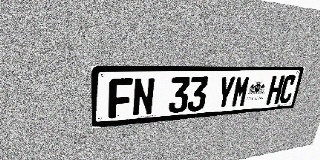3: (168, 77, 191, 114), (187, 76, 209, 112)
C: (278, 75, 297, 104)
F: (109, 78, 133, 119)
H: (266, 75, 285, 105)
M: (231, 76, 251, 108)
N: (132, 77, 155, 117)
Y: (215, 76, 236, 109)
